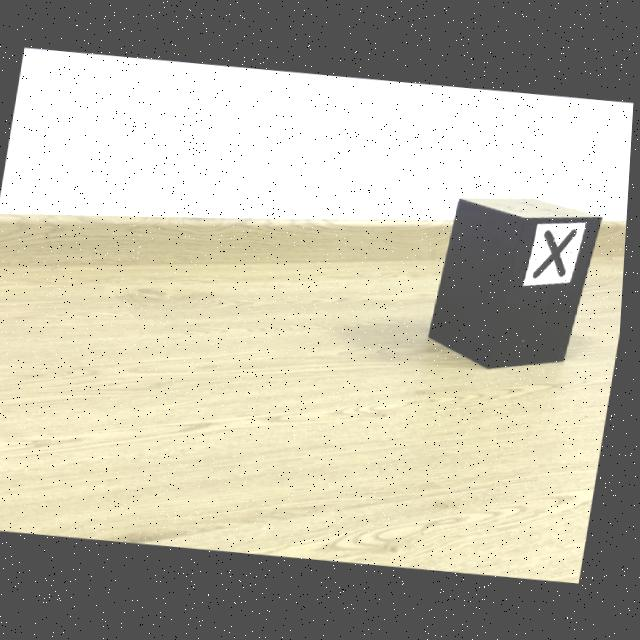X: (536, 231, 580, 280)
